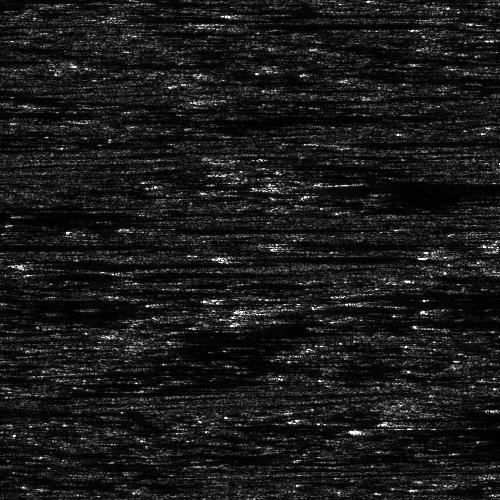object: (49, 11, 184, 22), (189, 251, 282, 264), (258, 225, 289, 262), (341, 414, 424, 425), (0, 258, 72, 269), (406, 249, 489, 256), (123, 225, 186, 234), (292, 137, 365, 144), (330, 426, 403, 433), (243, 184, 326, 189), (204, 22, 257, 29), (221, 10, 284, 15), (194, 96, 235, 101), (421, 324, 452, 327), (85, 117, 116, 120)
shadow: (274, 225, 431, 262), (31, 258, 225, 269), (236, 251, 393, 264), (117, 11, 268, 22), (383, 414, 500, 425), (328, 137, 500, 144), (285, 184, 500, 189), (253, 10, 464, 15), (367, 426, 500, 433), (155, 225, 255, 234), (215, 96, 369, 101), (231, 22, 336, 29), (0, 303, 80, 312), (0, 108, 66, 117), (447, 249, 500, 256), (0, 242, 121, 245), (437, 324, 500, 327), (100, 117, 150, 120)
